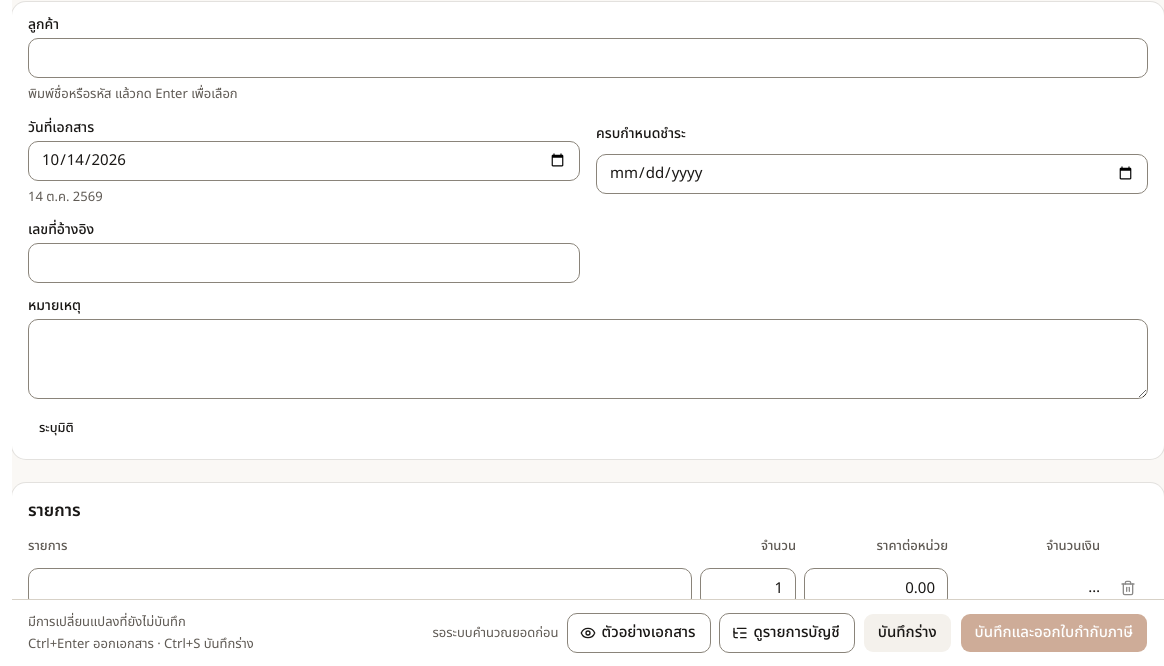
Test case: DocEditor › Enter picks the highlighted customer and prefills the usual item
Type "นาวา" into the dropdown labelled "ลูกค้า" at (588, 58), box [28,38,1148,78]
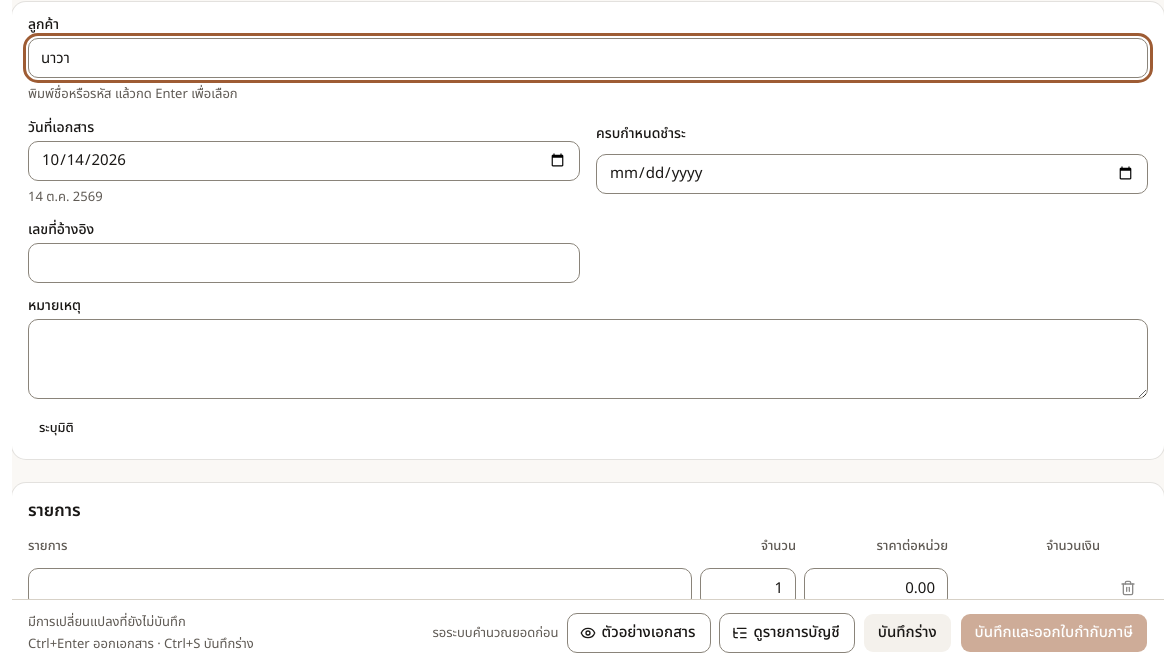
Press Enter
(page scrolled)
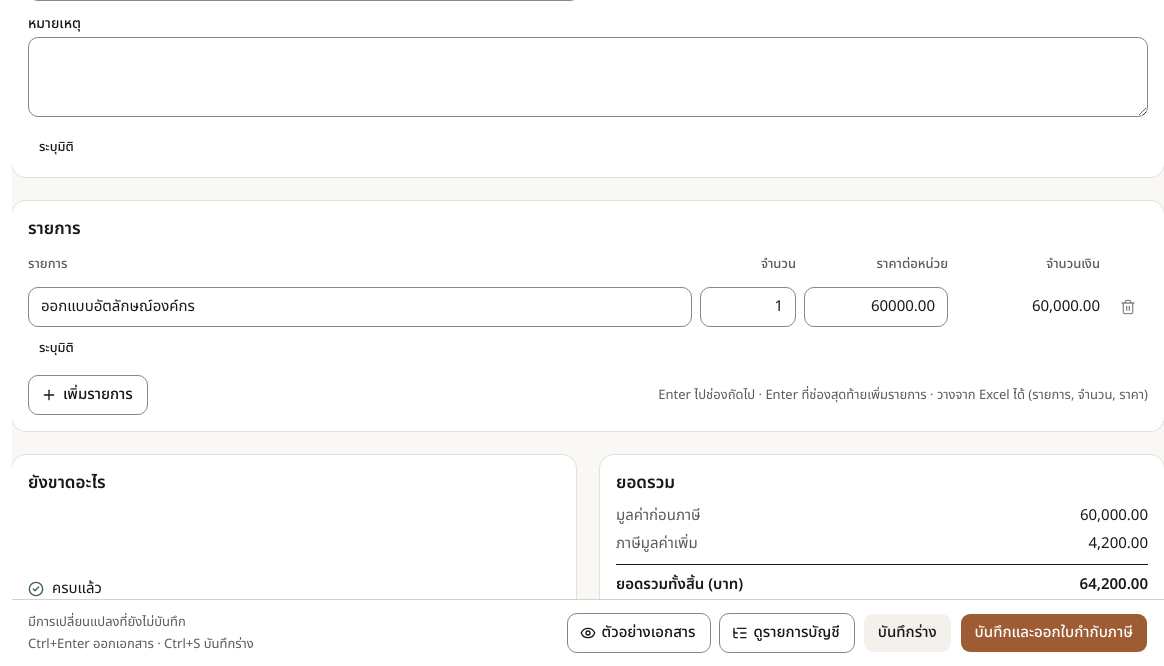
Check: the dropdown named "รายการ 1" holds "ออกแบบอัตลักษณ์องค์กร", box [28,287,692,327]
